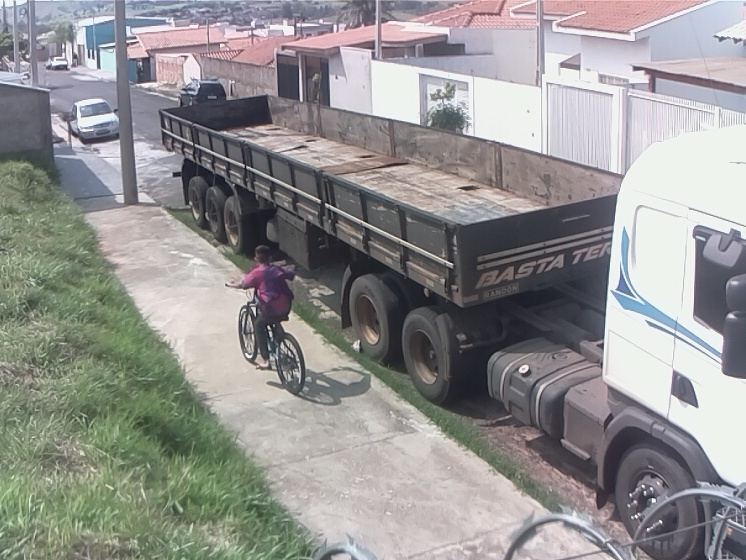person: (223, 240, 294, 378)
